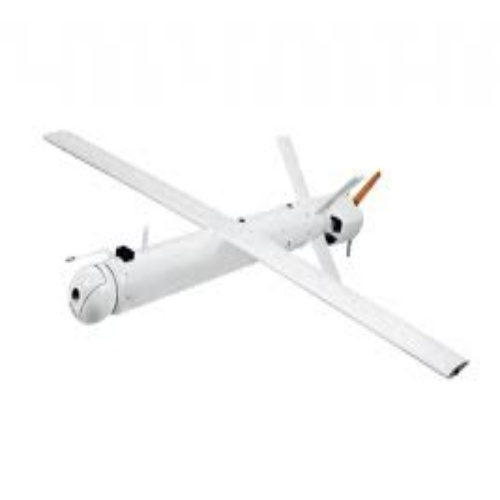uav262: (38, 128, 474, 381)
